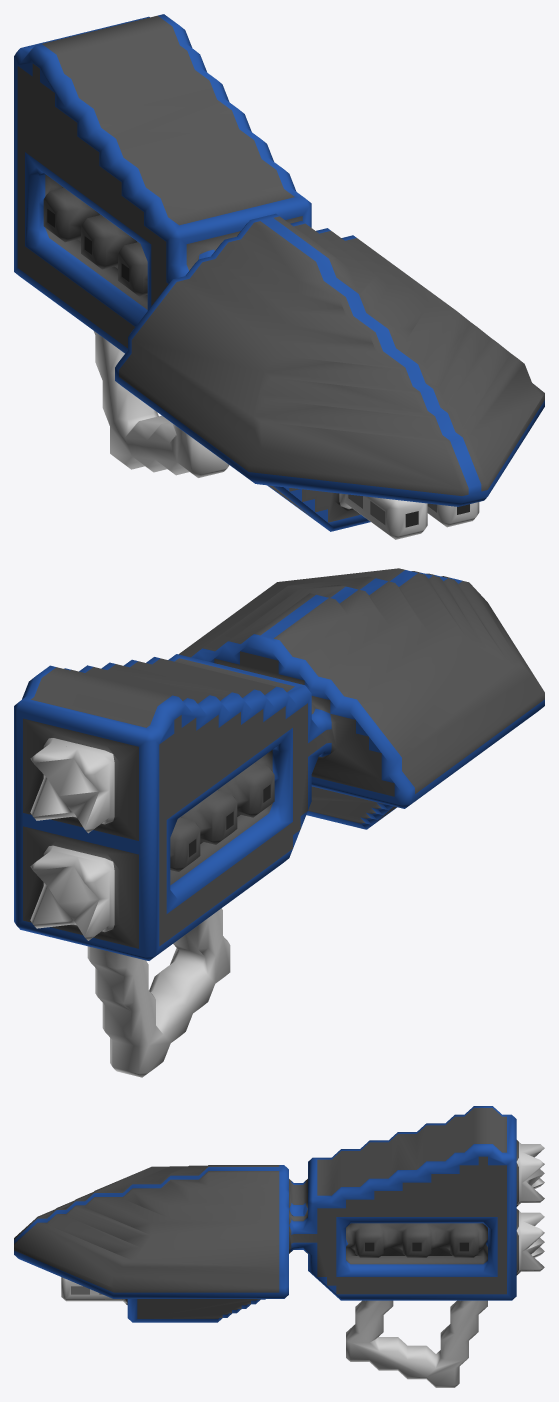
The model's file is diadochi-1-eris-class.obj.
3 renders of one model, top to bottom at view 1: azimuth 30°, elevation 25°; view 2: azimuth 150°, elevation 25°; view 3: azimuth 270°, elevation 25°, orthographic. The views are drawn at different scales.
Bounding box in the file's own units: 23 × 30 × 56.
Materials: 1 (1 with a texture image).
